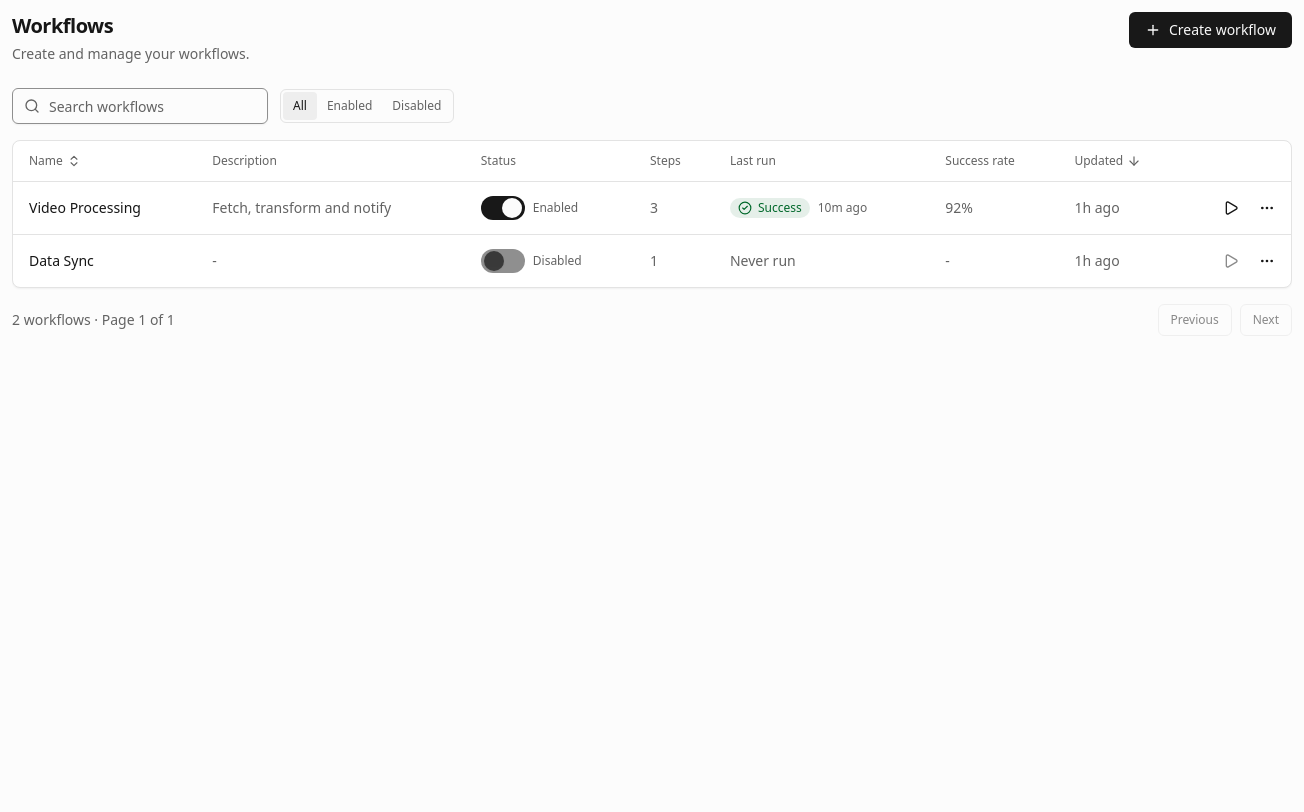
Test case: WorkflowsPage actions › keeps the new state and confirms when the update succeeds
Click the switch named "Video Processing enabled" at (503, 208), box [481,196,525,220]
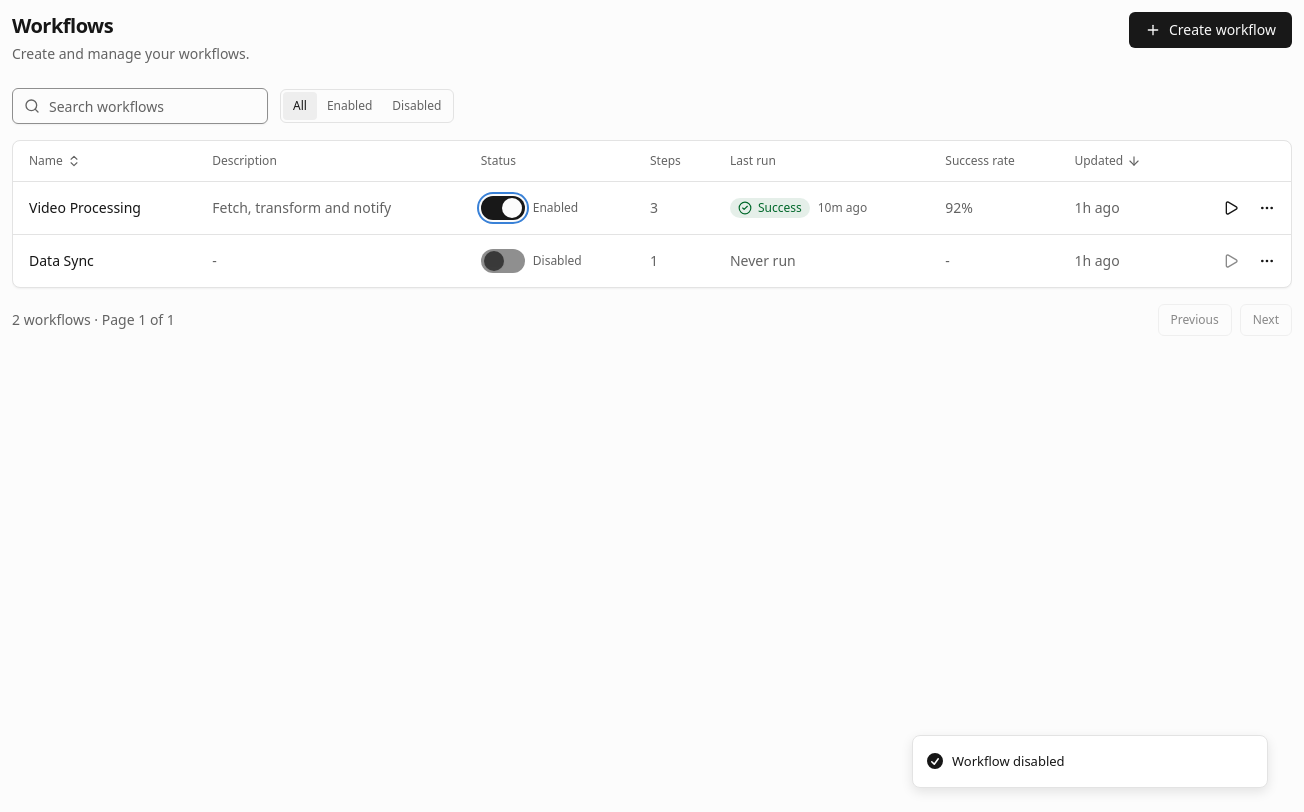
Expected: the text "Workflow disabled" is shown, [952,752,1065,771]
